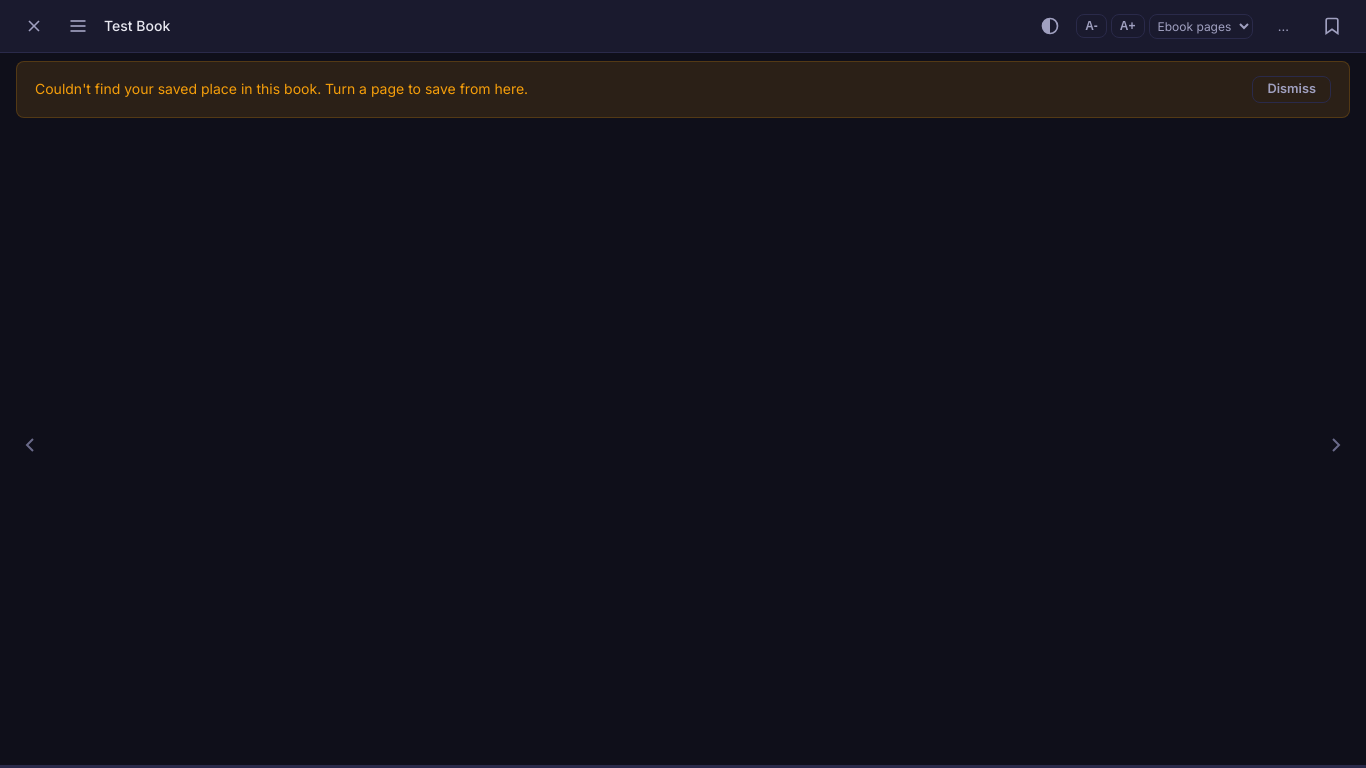
EbookReader — the ✓ only appears for a real write (issue #159) › shows "Not saved" instead of ✓ while the gate is closed, and writes nothing
The image size is (1366, 768).
Click the button titled "Save position": (1332, 26) x1=1314 y1=8 x2=1350 y2=44
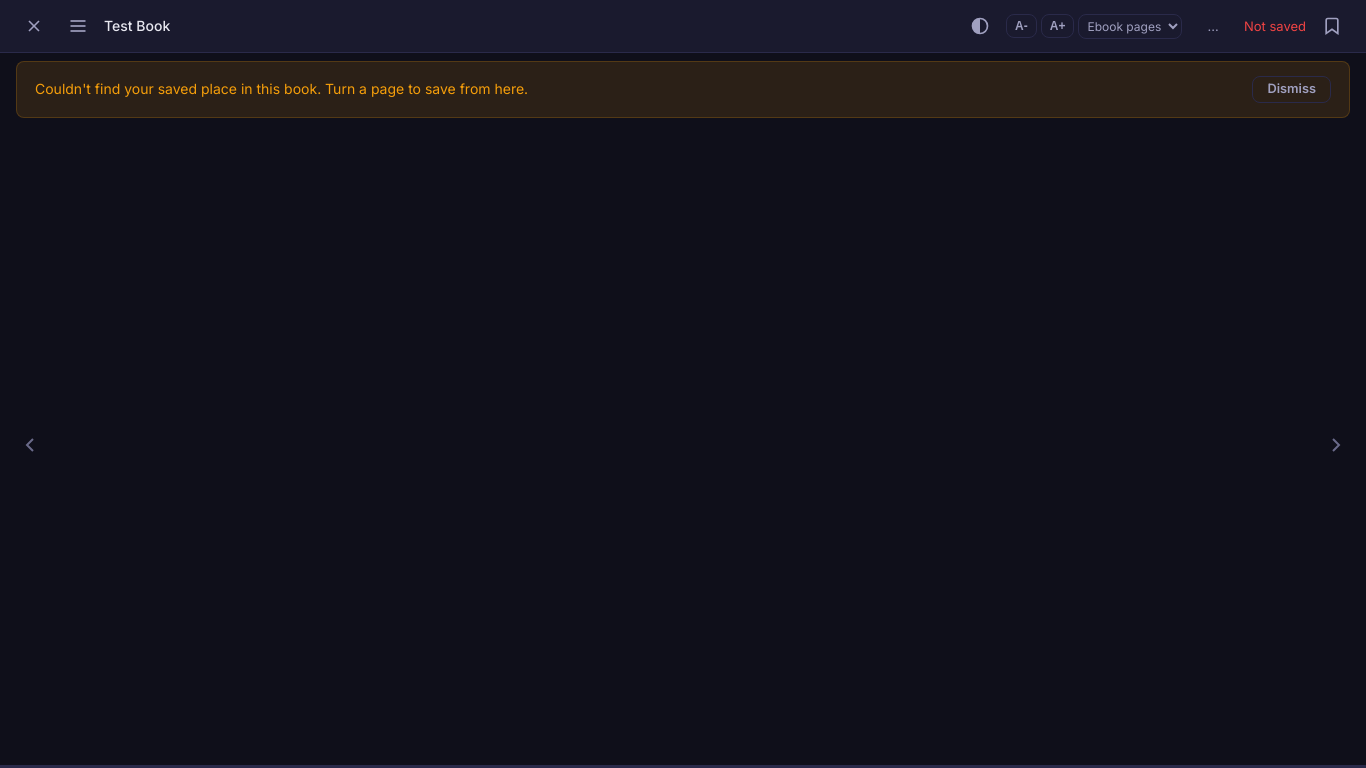
Check: the text "Not saved" is shown, box x1=1244 y1=16 x2=1306 y2=36
